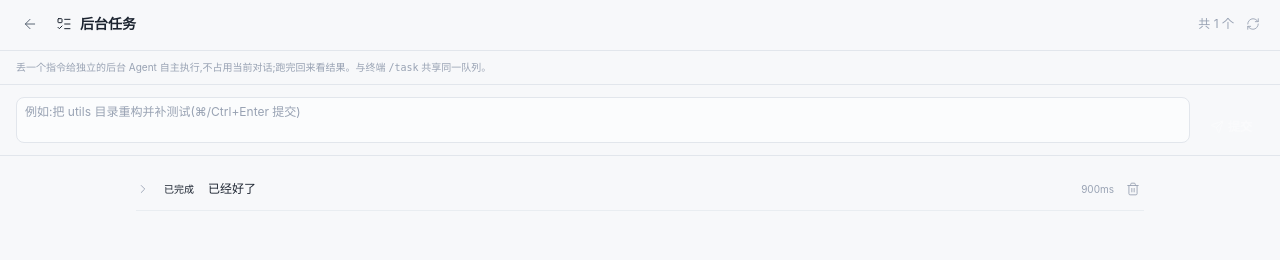
Test: TaskPanel 删除按钮 › 后端拒绝时把原因显示出来 —— 「删除失败」四个字等于没说
Click the button with test id "task-delete" at (1133, 189), box x1=1122 y1=178 x2=1144 y2=200
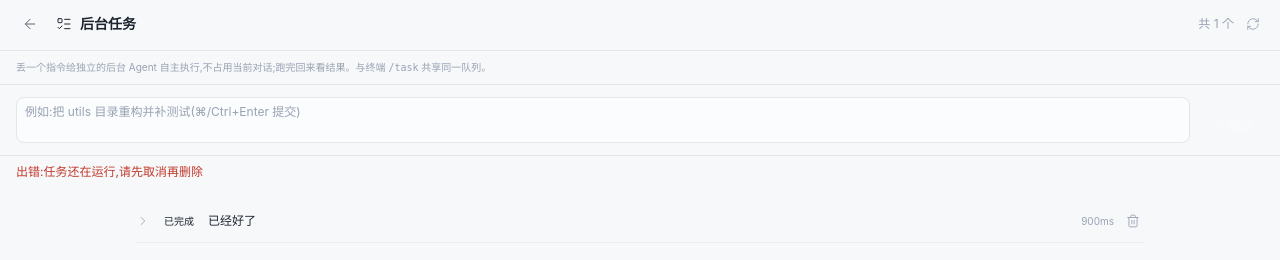
Now the text "出错:任务还在运行,请先取消再删除" is shown, box x1=16 y1=164 x2=203 y2=179
